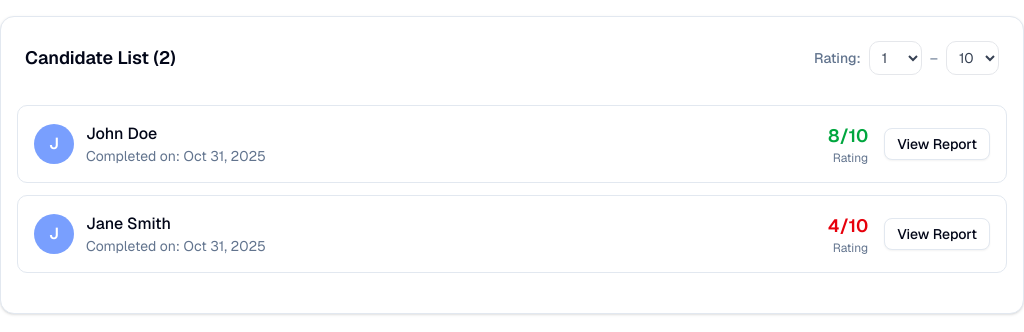
Test: CandidateList Component › shows reset button when filter is active and resets on click
Select "6" in the 1st dropdown at (895, 58), box [869, 41, 922, 75]
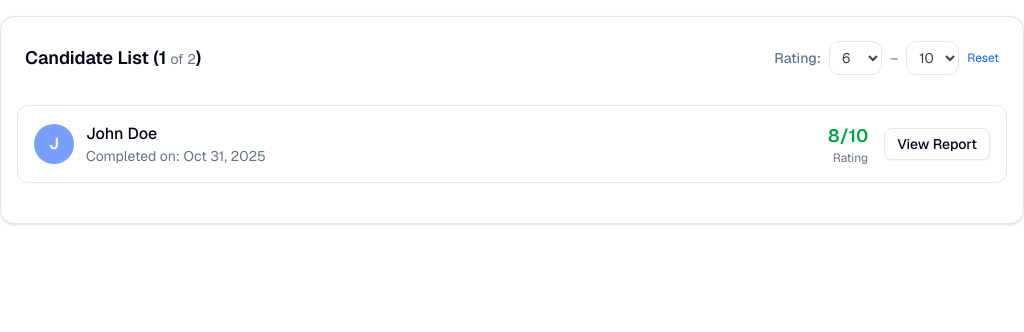
Check: the button "Reset" is shown
Click the button "Reset" at (983, 58), box [967, 50, 999, 66]
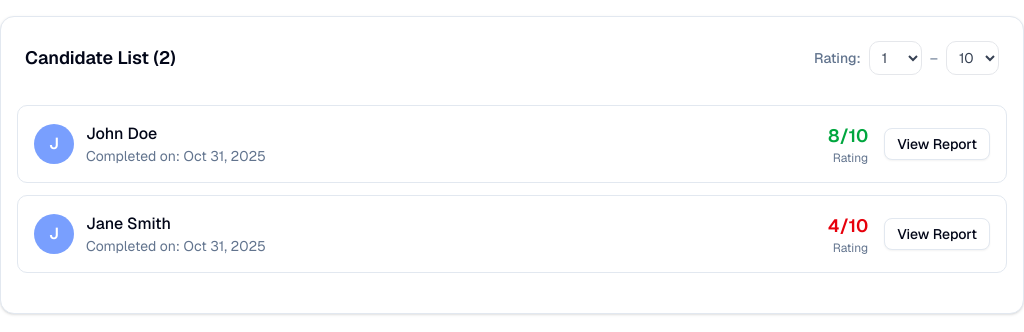
Check: the text "Candidate List (2)" is shown, box [25, 44, 176, 72]
Check: the button "Reset" is gone
